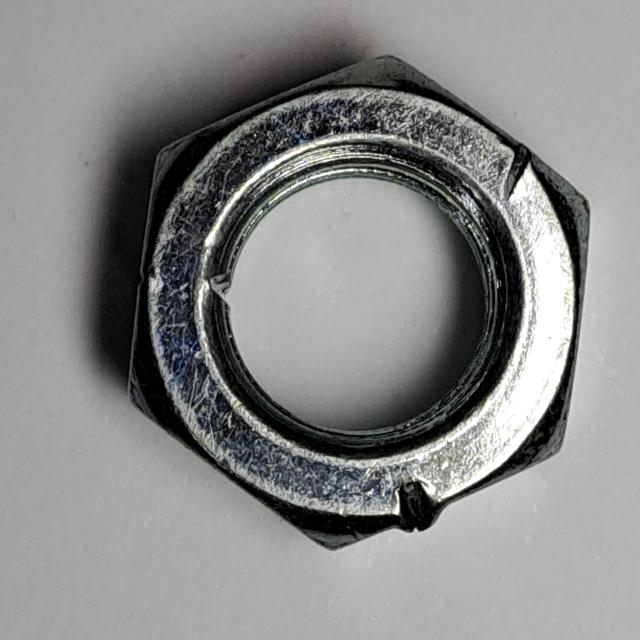Scratches: (123, 36, 603, 570)
